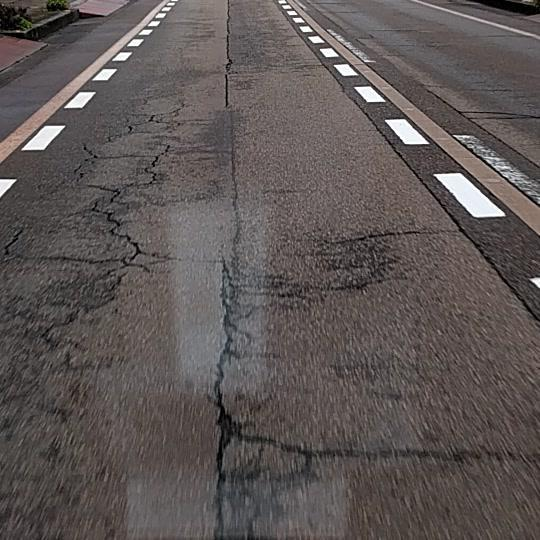D10: (254, 425, 535, 481), (326, 218, 465, 242), (415, 78, 527, 95), (458, 107, 539, 126)
D20: (5, 95, 286, 508)
